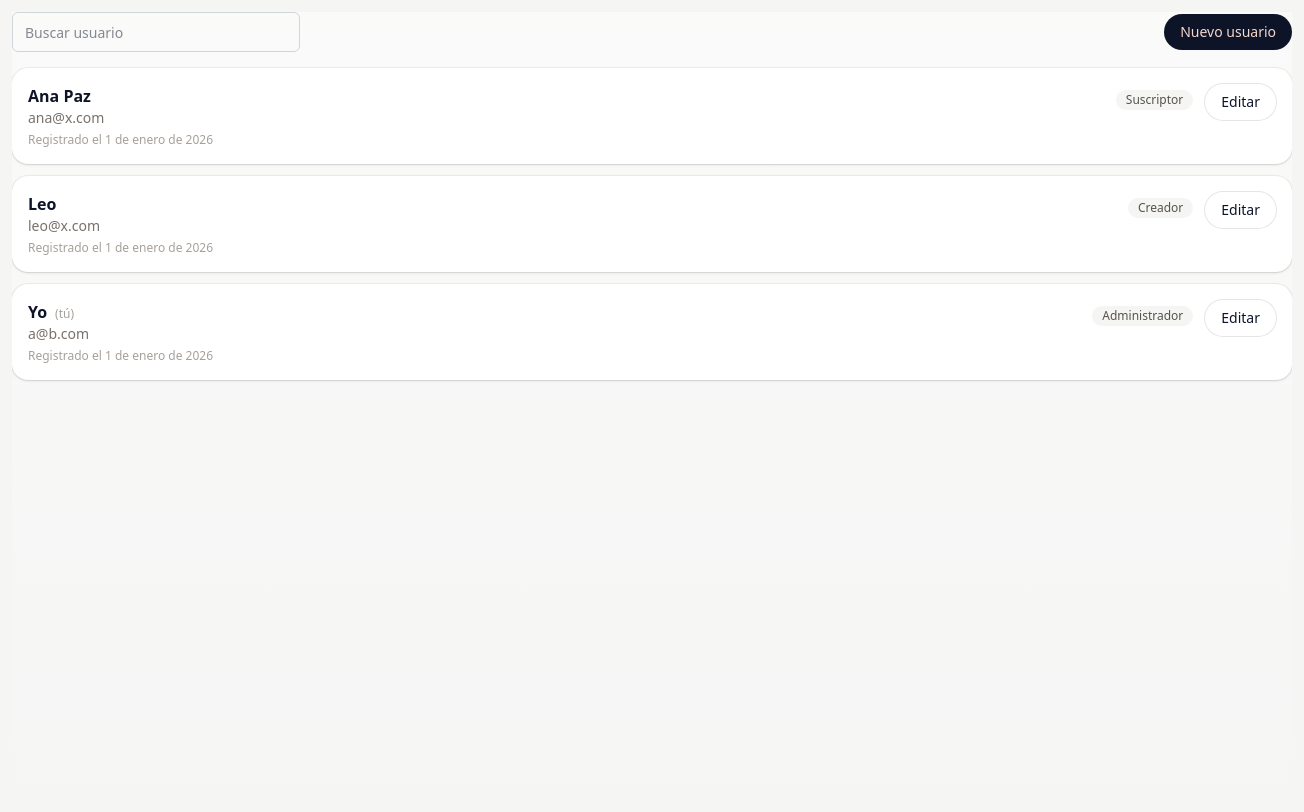
Test case: UsersSection › does not let an admin change their own role
The image size is (1304, 812).
Click the button with aria-label "Editar a Yo" at (1241, 318), box top-left (1205, 300), bottom-right (1276, 336)
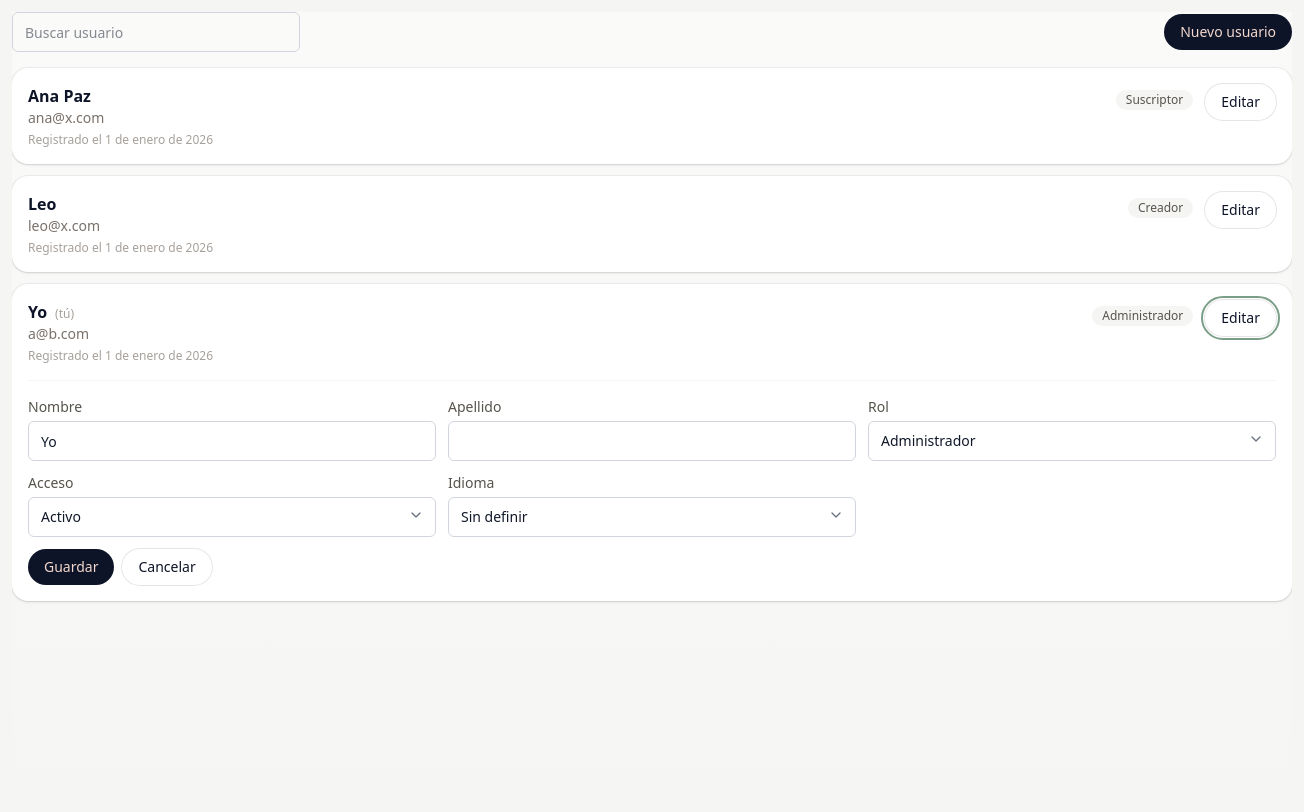
Check: the dropdown labelled "Rol" is disabled, box top-left (868, 421), bottom-right (1276, 461)
